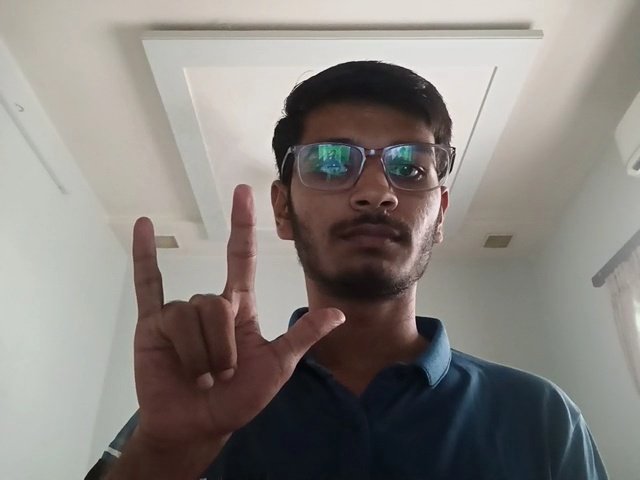I Love You: (119, 176, 347, 445)
